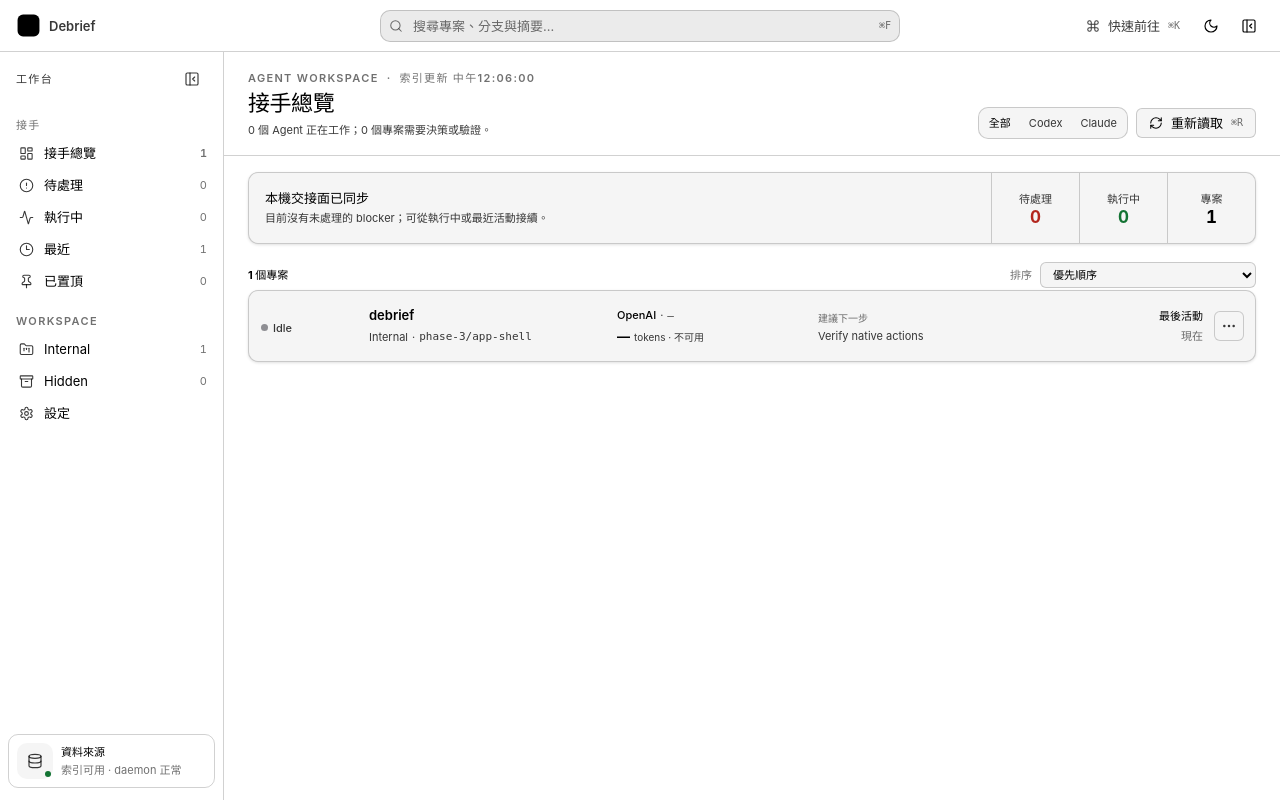
Scenario: App › keeps the last snapshot visible when a later refresh fails
The image size is (1280, 800).
Expected: the text "debrief" is shown, [369, 306, 414, 324]
Click the button "重新讀取 ⌘R" at (1196, 123), box [1136, 108, 1256, 138]
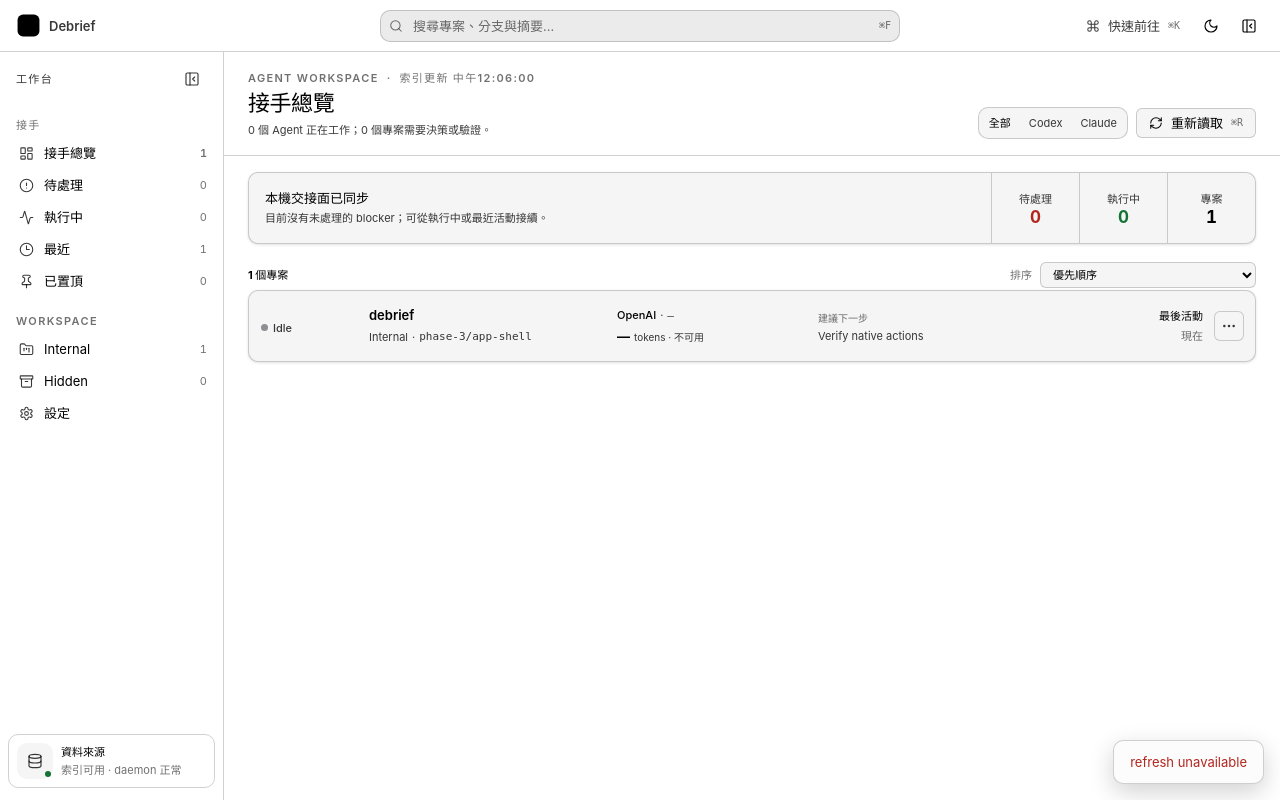
Expected: the text "debrief" is shown, [369, 306, 414, 324]
Result: the message reads "refresh unavailable" at [1130, 754, 1247, 770]
